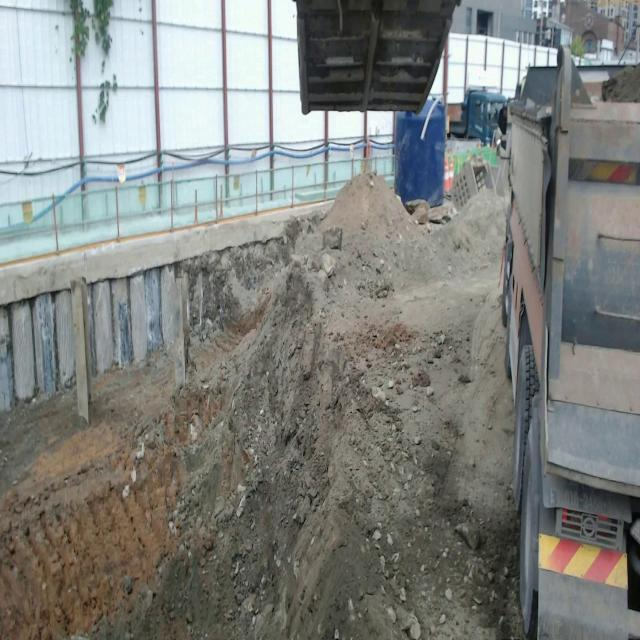cement: (0, 200, 334, 305), (413, 306, 420, 315), (170, 487, 176, 494)
red-sand: (0, 179, 524, 639)
